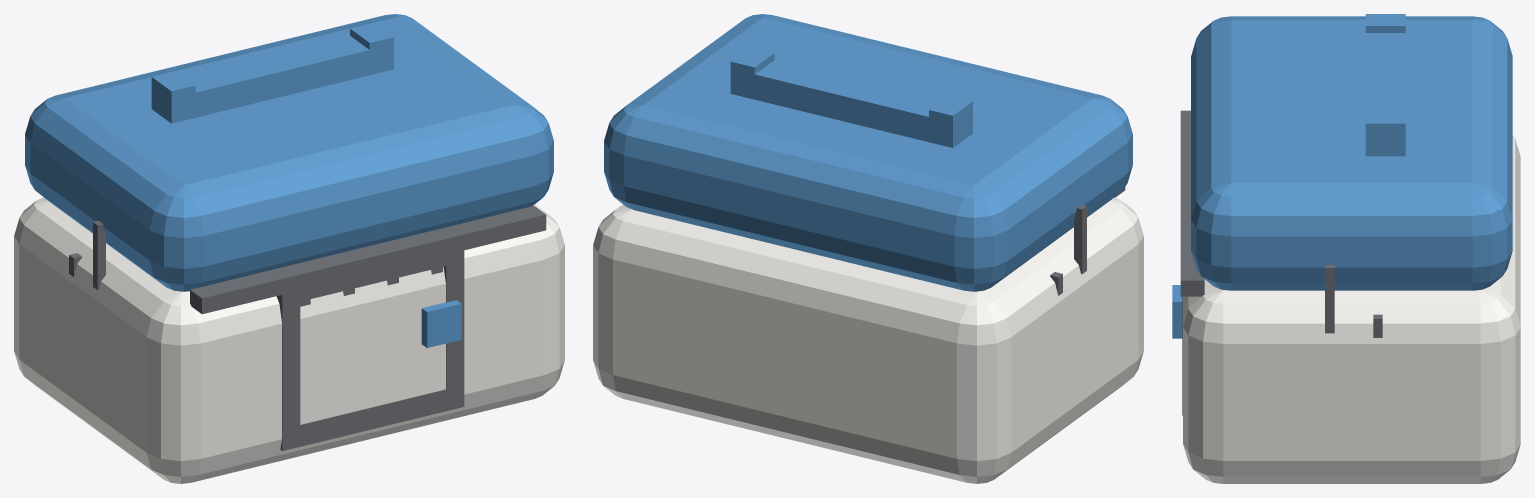
Rendered from boarding-kennels-and-cattery-boarding-kennels-and-catt-7599cf1c__35552.glb.
3 renders of one model, left to right at view 1: azimuth 30°, elevation 25°; view 2: azimuth 150°, elevation 25°; view 3: azimuth 270°, elevation 25°, orthographic.
Visible parts, largest first — view 1: boarding-kennels-and-cattery-cat-carrier-large, carrier-door/charcoal, carrier-door/blue; view 2: boarding-kennels-and-cattery-cat-carrier-large; view 3: boarding-kennels-and-cattery-cat-carrier-large, carrier-door/blue.
Boxes of the visible parts, x1,y1,x2,y2 form: boarding-kennels-and-cattery-cat-carrier-large: [14, 14, 564, 483]; carrier-door/charcoal: [276, 250, 464, 451]; carrier-door/blue: [421, 300, 461, 347]; boarding-kennels-and-cattery-cat-carrier-large: [593, 14, 1143, 483]; boarding-kennels-and-cattery-cat-carrier-large: [1180, 14, 1520, 483]; carrier-door/blue: [1172, 285, 1182, 338].
Size of the model in its own units: 0.6 by 0.448 by 0.4335.
